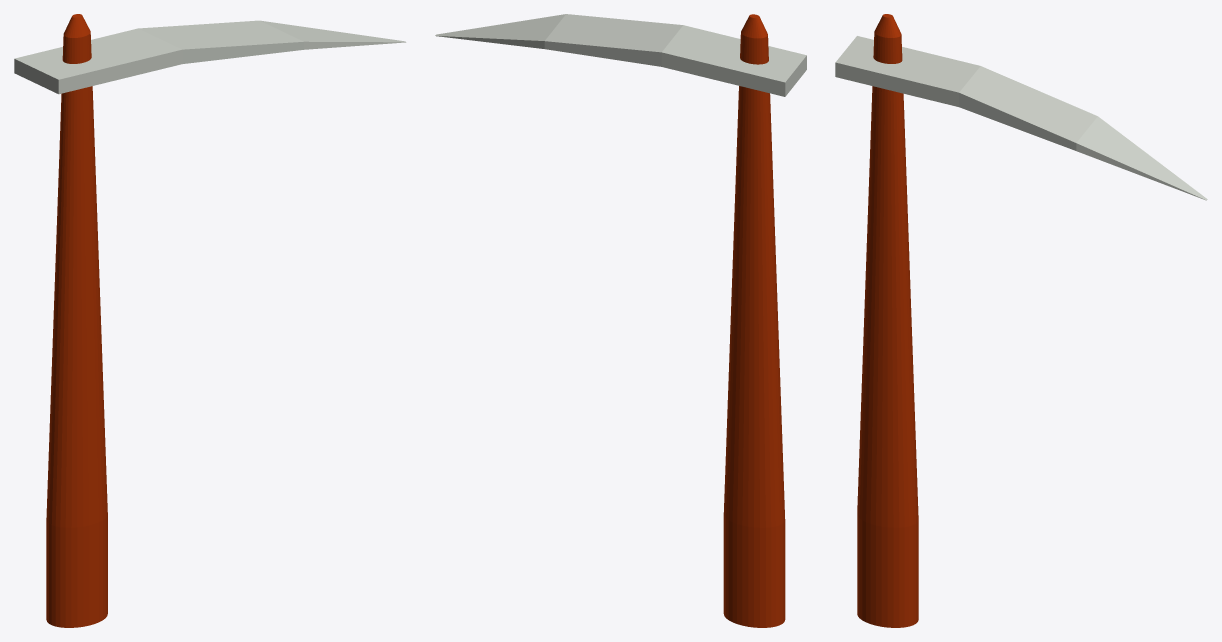
The model's file is Pickaxe 1.fbx.
3 renders of one model, left to right at view 1: azimuth 30°, elevation 25°; view 2: azimuth 150°, elevation 25°; view 3: azimuth 330°, elevation 25°, orthographic.
Visible parts, largest first — view 1: Pick; view 2: Pick; view 3: Pick.
Part boxes in pixels (<box>): Pick: <box>14,14,406,627</box>; Pick: <box>435,14,806,627</box>; Pick: <box>835,14,1207,627</box>.
Bounding box in the file's own units: 104 × 161 × 17.15.
